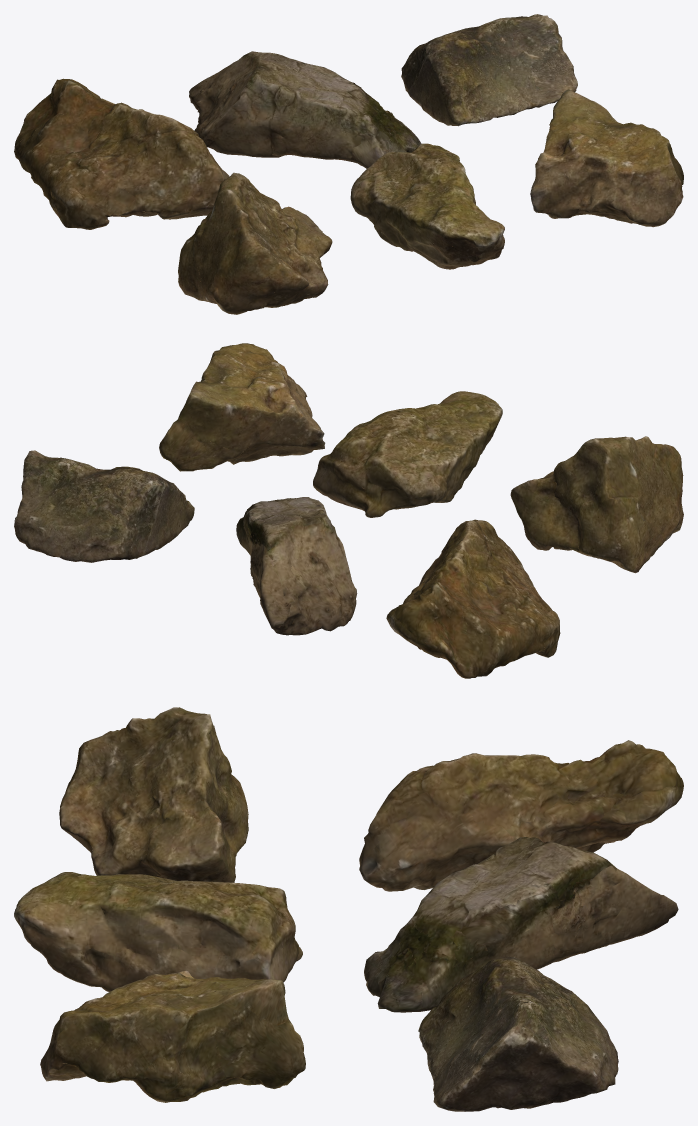
The model's file is rock_moss_set_01.glb.
The picture shows the model from 3 angles, top to bottom: view 1: azimuth 30°, elevation 25°; view 2: azimuth 150°, elevation 25°; view 3: azimuth 270°, elevation 25°; orthographic projection. The views are drawn at different scales.
Visible parts, largest first — view 1: rock_moss_set_01_rock01, rock_moss_set_01_rock02, rock_moss_set_01_rock06, rock_moss_set_01_rock04, rock_moss_set_01_rock03, rock_moss_set_01_rock05; view 2: rock_moss_set_01_rock04, rock_moss_set_01_rock01, rock_moss_set_01_rock05, rock_moss_set_01_rock03, rock_moss_set_01_rock06, rock_moss_set_01_rock02; view 3: rock_moss_set_01_rock01, rock_moss_set_01_rock02, rock_moss_set_01_rock05, rock_moss_set_01_rock06, rock_moss_set_01_rock04, rock_moss_set_01_rock03.
Boxes of the visible parts, x1,y1,x2,y2 form: rock_moss_set_01_rock01: (14, 78, 229, 229); rock_moss_set_01_rock02: (189, 51, 421, 168); rock_moss_set_01_rock06: (530, 89, 683, 227); rock_moss_set_01_rock04: (178, 172, 332, 314); rock_moss_set_01_rock03: (401, 14, 577, 126); rock_moss_set_01_rock05: (350, 143, 504, 269); rock_moss_set_01_rock04: (510, 436, 683, 573); rock_moss_set_01_rock01: (386, 519, 560, 678); rock_moss_set_01_rock05: (313, 391, 502, 517); rock_moss_set_01_rock03: (14, 450, 194, 562); rock_moss_set_01_rock06: (159, 343, 325, 471); rock_moss_set_01_rock02: (236, 497, 357, 635); rock_moss_set_01_rock01: (359, 740, 683, 891); rock_moss_set_01_rock02: (364, 837, 678, 1012); rock_moss_set_01_rock05: (14, 872, 302, 991); rock_moss_set_01_rock06: (40, 970, 305, 1102); rock_moss_set_01_rock04: (59, 707, 248, 882); rock_moss_set_01_rock03: (418, 956, 618, 1111).
Size of the model in its own units: 8 by 1.77 by 6.95.
Materials: 1 (1 with a texture image).
